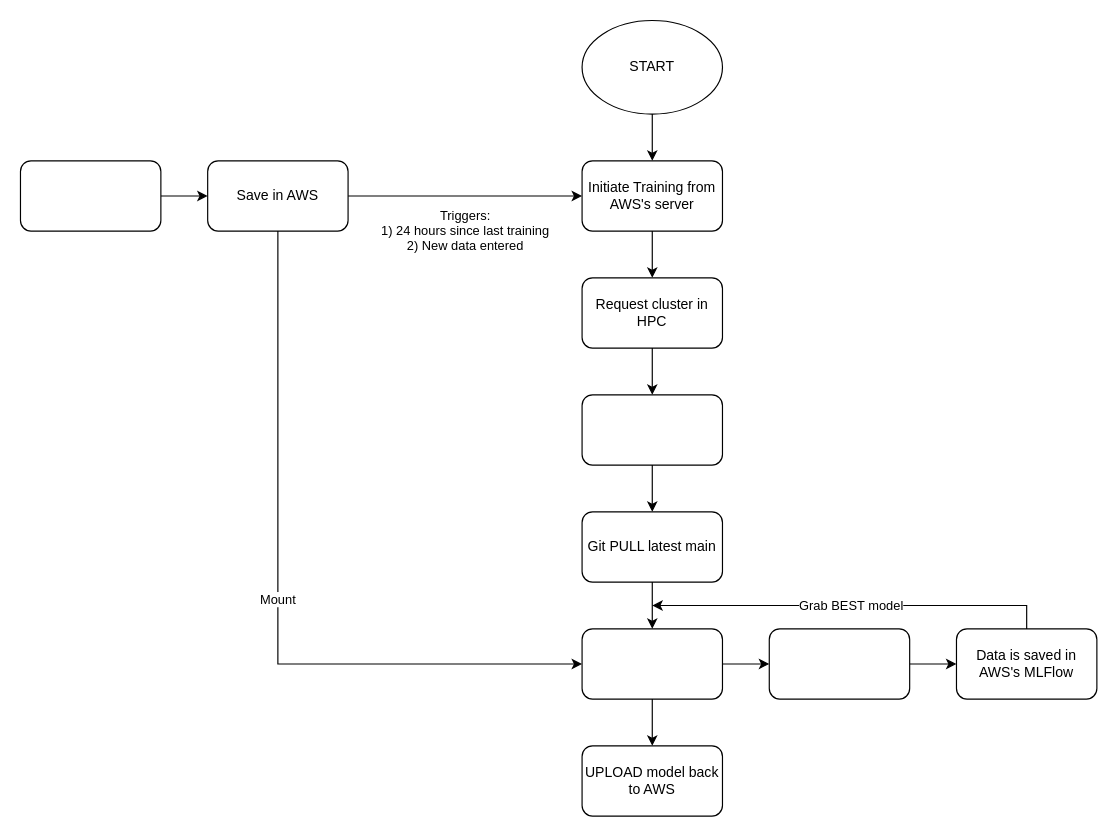
This 1117x837 diagram has some shape labels left out. The centre of each missing label's shape, as x and y in pixels:
Jack uploads data: point 90,195
Load Environment: point 651,429
MLFlow uploads model/training stats to AWS's MLFLOW: point 839,663
TRAIN: point 651,663
